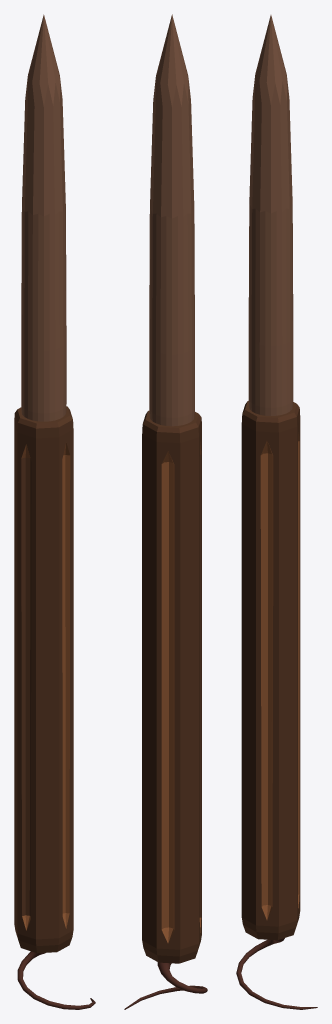
The model's file is Wand 509.glb.
3 views of the same model, side by side, from view 1: azimuth 30°, elevation 25°; view 2: azimuth 150°, elevation 25°; view 3: azimuth 330°, elevation 25° (orthographic). The views are drawn at different scales.
Visible parts, largest first — view 1: GeneratedWand; view 2: GeneratedWand; view 3: GeneratedWand.
Boxes of the visible parts, x1=… form: GeneratedWand: x1=14, y1=14, x2=95, y2=1009; GeneratedWand: x1=124, y1=14, x2=207, y2=1009; GeneratedWand: x1=236, y1=15, x2=317, y2=1009.
Size of the model in its own units: 0.0402 by 0.5178 by 0.0347.
